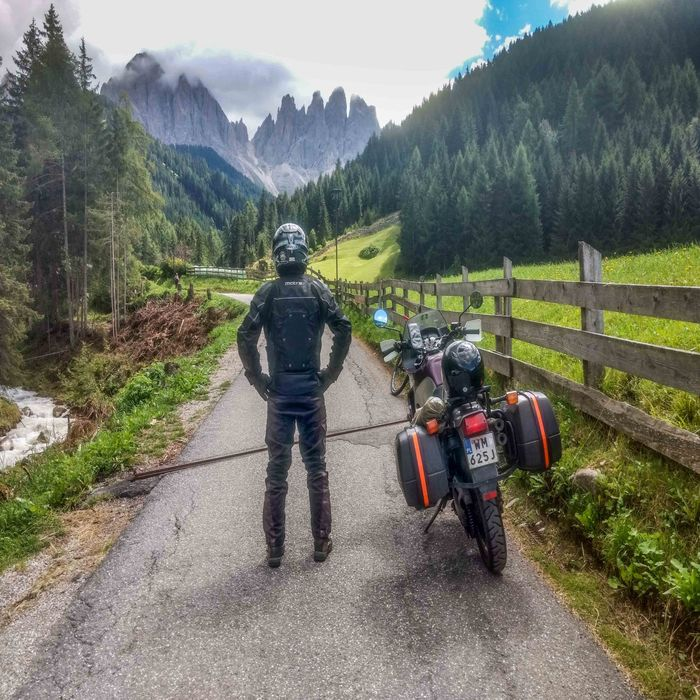h: (272, 222, 310, 280)
n: (461, 431, 501, 471)
